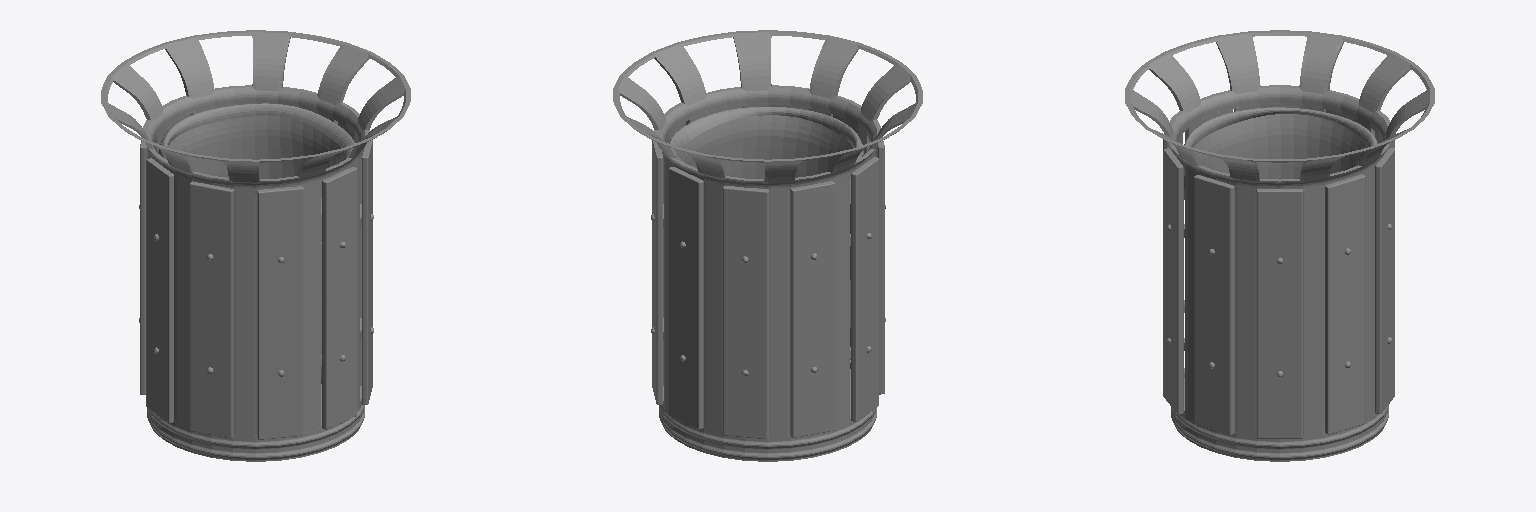
File: trash.obj
3 renders of one model, left to right at view 1: azimuth 30°, elevation 25°; view 2: azimuth 150°, elevation 25°; view 3: azimuth 270°, elevation 25°, orthographic.
Visible parts, largest first — view 1: classic_bin_001, classic_bin_inside_001; view 2: classic_bin_001, classic_bin_inside_001; view 3: classic_bin_001, classic_bin_inside_001.
Part boxes in pixels (x1,y1,x2,y2): classic_bin_001: (101, 30, 410, 461); classic_bin_inside_001: (158, 103, 354, 383); classic_bin_001: (613, 30, 922, 461); classic_bin_inside_001: (669, 107, 863, 327); classic_bin_001: (1125, 30, 1434, 461); classic_bin_inside_001: (1184, 107, 1377, 199).
Size of the model in its own units: 65.89 by 75 by 65.75.